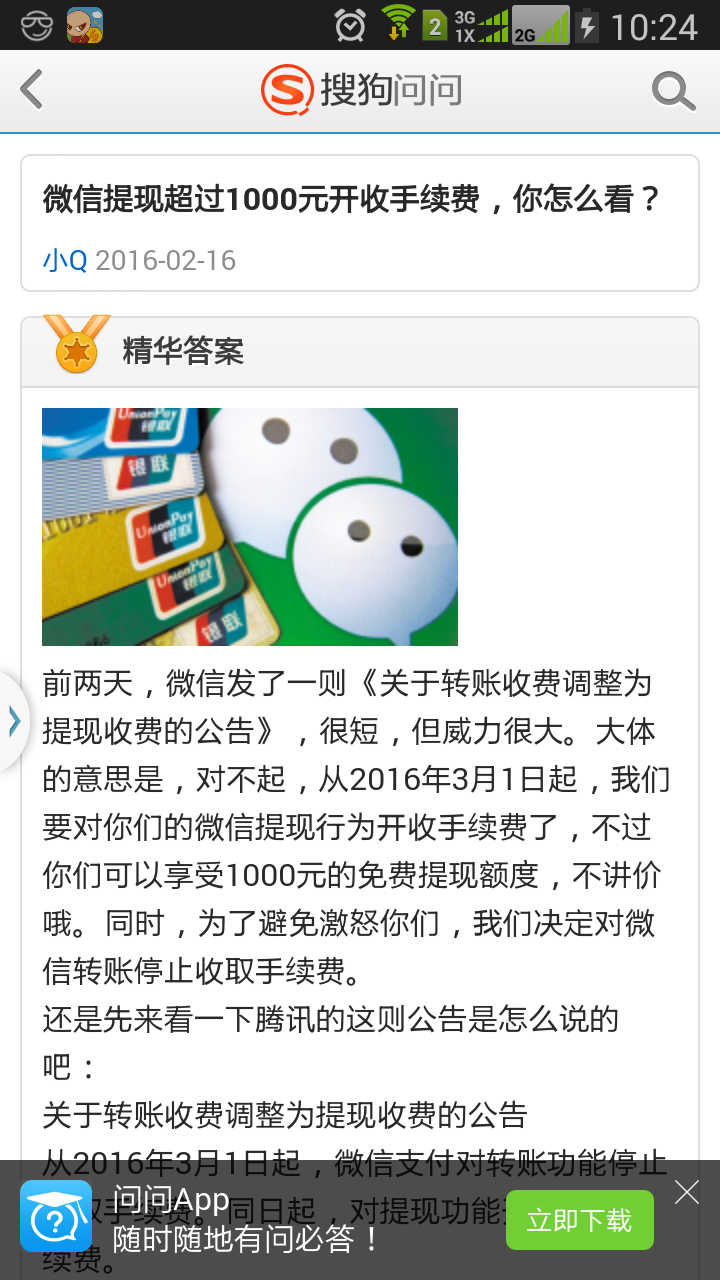button: (502, 1184, 663, 1254)
imgbutton: (639, 63, 702, 126), (9, 63, 60, 119)
imgview: (33, 403, 468, 654)
textview: (33, 649, 678, 1087), (14, 145, 705, 303)
